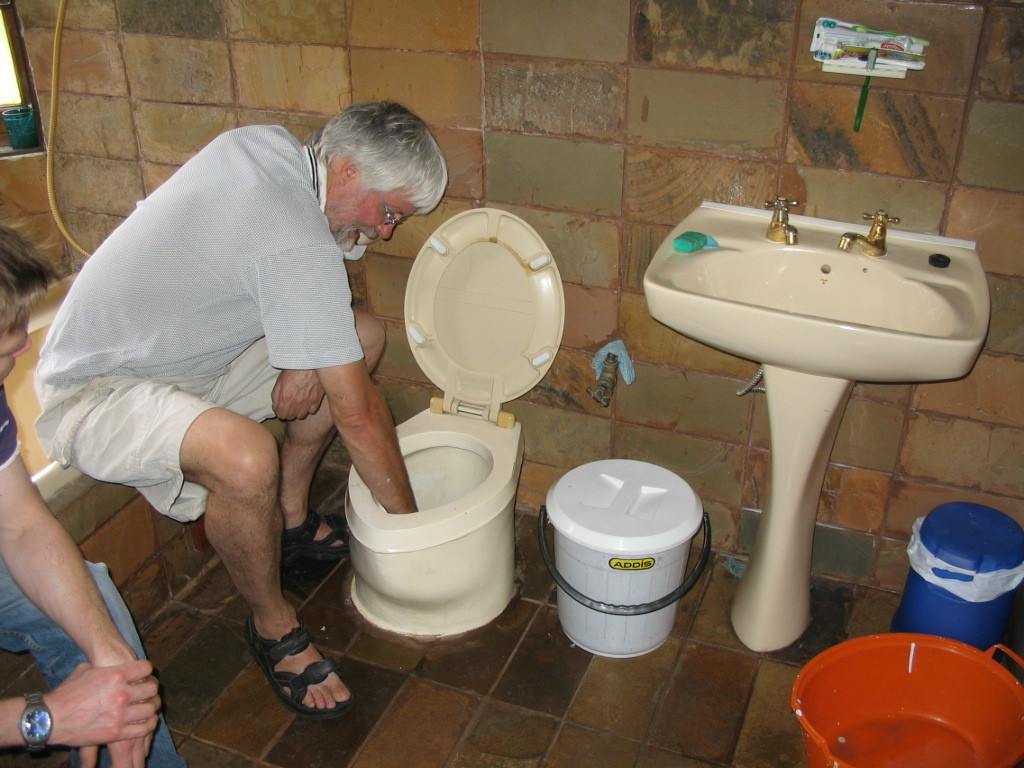tap: (837, 207, 897, 261), (762, 188, 801, 249)
